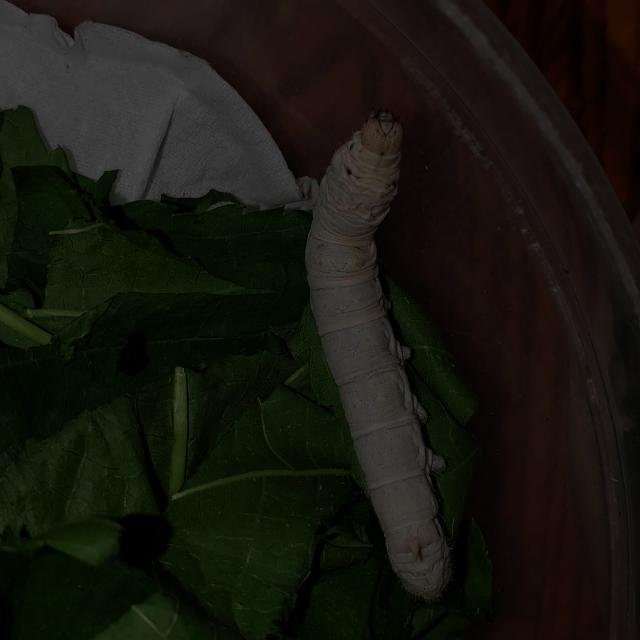Healthy: (273, 80, 537, 615)
